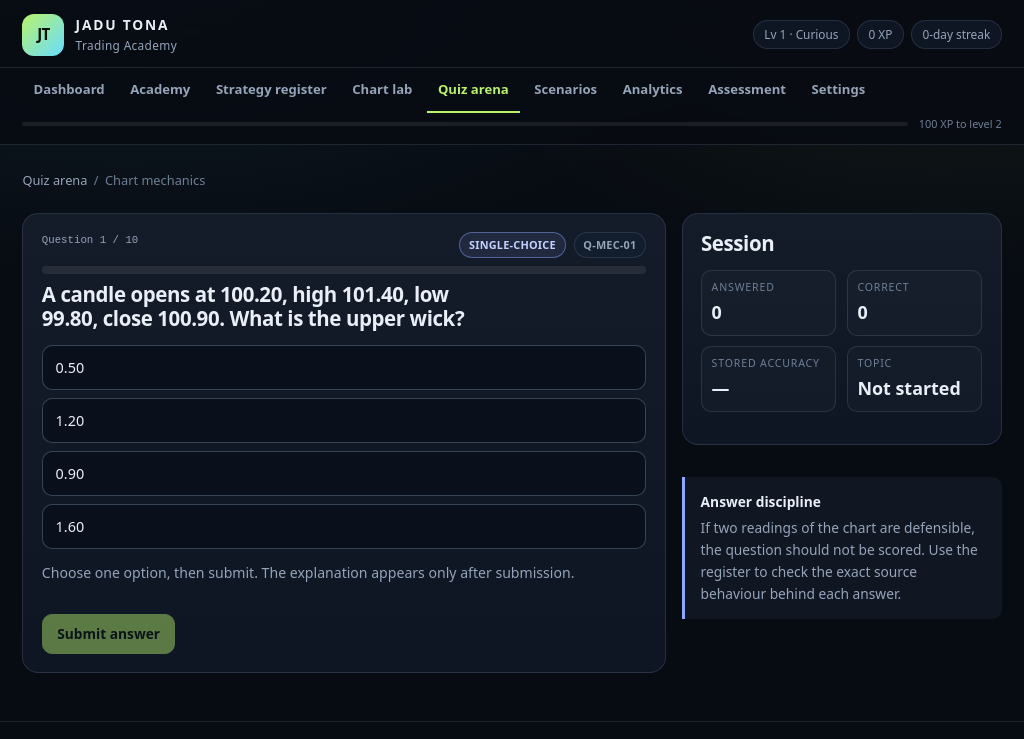
Test: quiz flow › does not award XP for a wrong answer
Click the button "1.20". click: (70, 421)
box: [42,398,646,443]
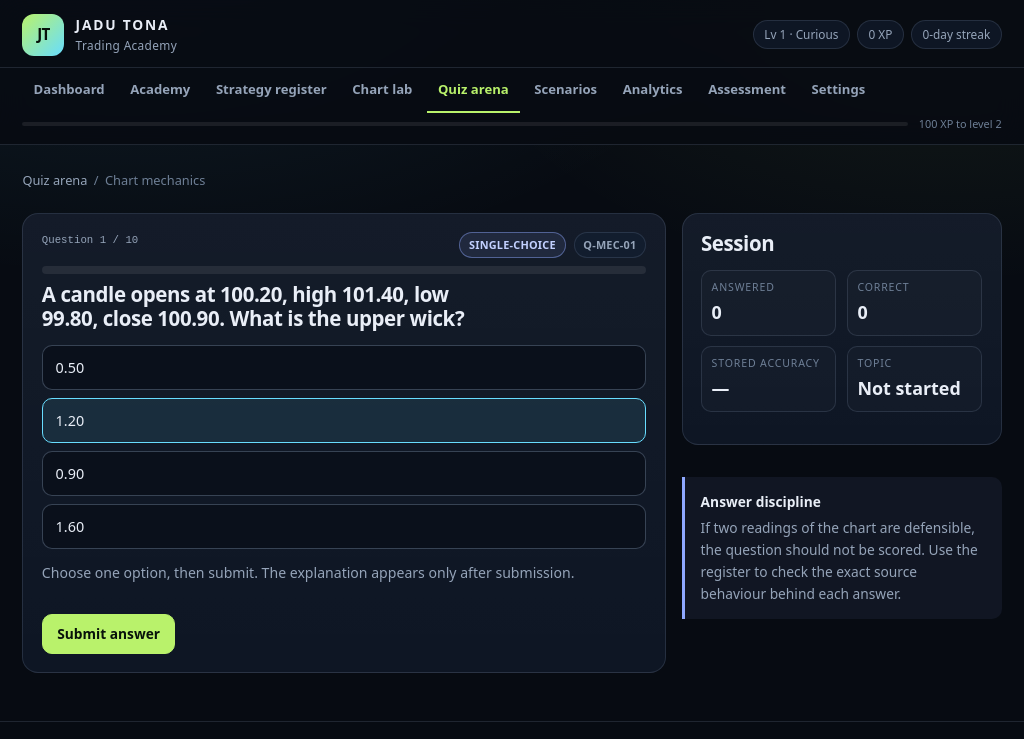
Click the button "Submit answer". click: (109, 634)
box: [42,614,176,654]
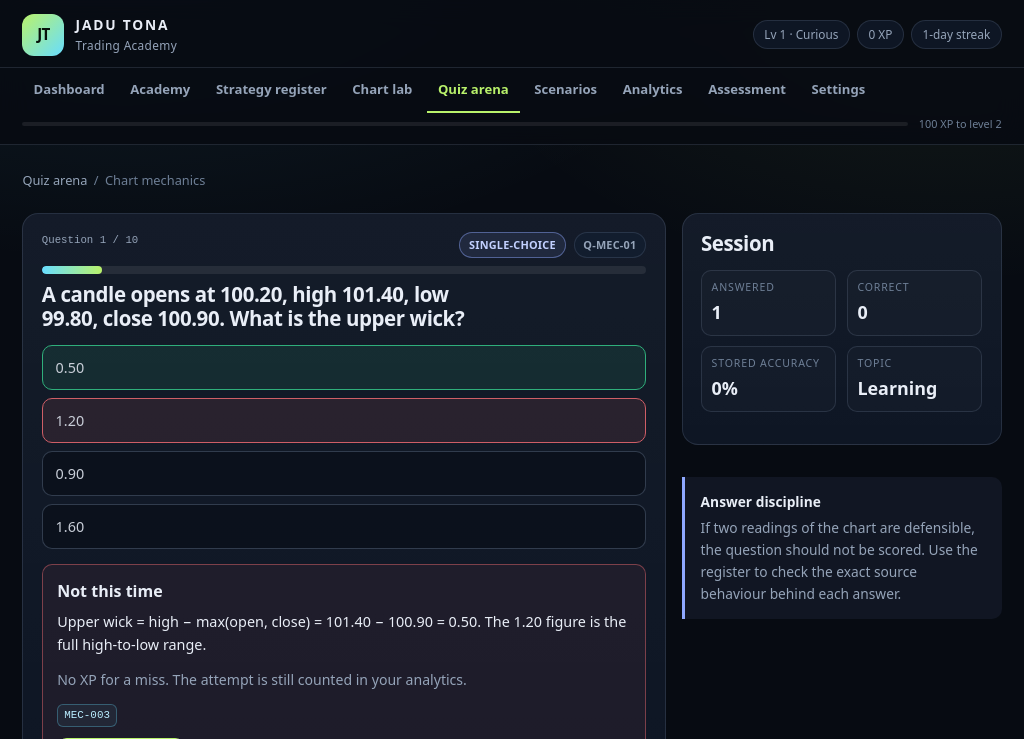
Check: the text "Not this time" is shown, box [57,580,163,602]
